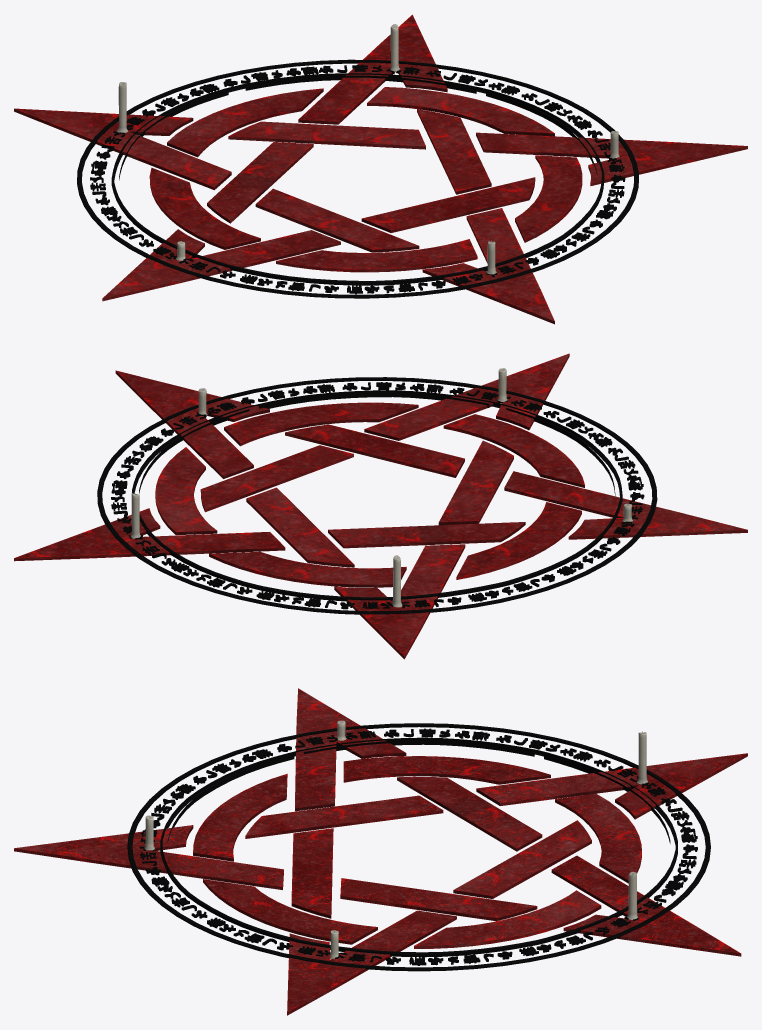
File: summoning_circle.glb
The picture shows the model from 3 angles, top to bottom: view 1: azimuth 30°, elevation 25°; view 2: azimuth 150°, elevation 25°; view 3: azimuth 270°, elevation 25°; orthographic projection. The views are drawn at different scales.
Parts seen in each view (by area): view 1: summoning_circle; view 2: summoning_circle; view 3: summoning_circle.
Part boxes in pixels (box(x1,y1,x2,y2)): summoning_circle: box(14, 14, 747, 324); summoning_circle: box(14, 353, 747, 659); summoning_circle: box(14, 688, 747, 1015).
Size of the model in its own units: 2.94 by 0.2295 by 2.81.
Materials: 5 (4 with a texture image).
